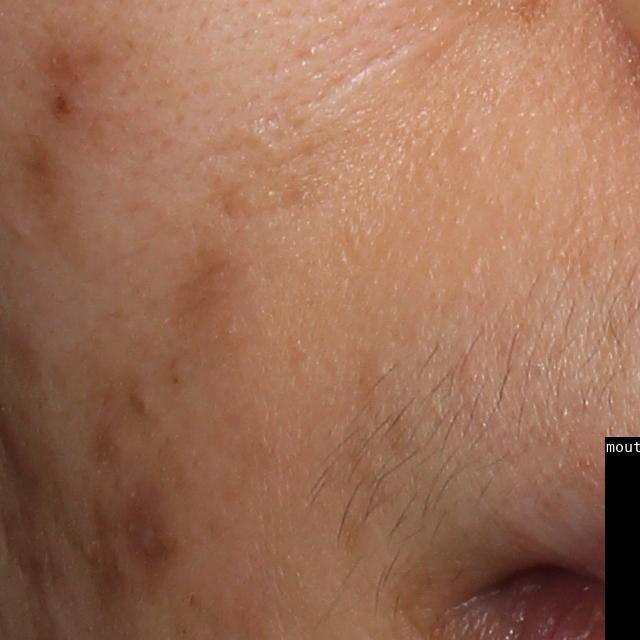atrophic_scar: (121, 505, 170, 581), (77, 532, 126, 606), (9, 134, 51, 199)
